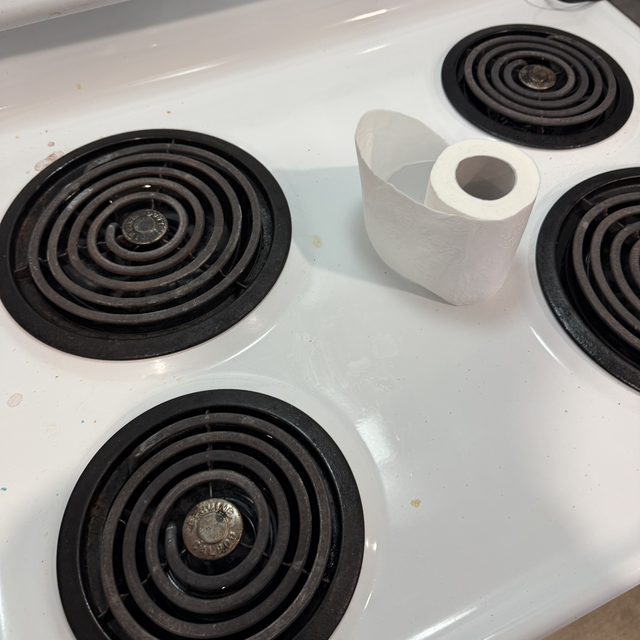Stove: (0, 0, 640, 640)
Toilet Paper: (359, 110, 535, 304)
